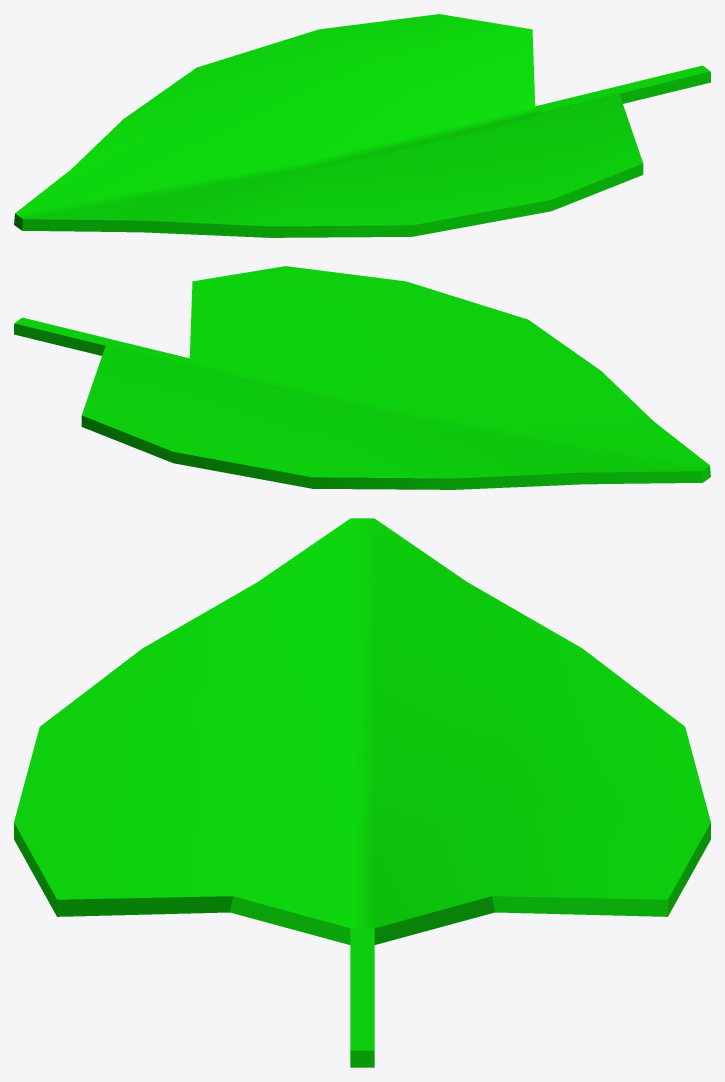
The model's file is foglia.fbx.
The picture shows the model from 3 angles, top to bottom: view 1: azimuth 30°, elevation 25°; view 2: azimuth 150°, elevation 25°; view 3: azimuth 270°, elevation 25°; orthographic projection. The views are drawn at different scales.
Visible parts, largest first — view 1: Foglia; view 2: Foglia; view 3: Foglia.
Part boxes in pixels (x1=…): Foglia: x1=14, y1=14, x2=710, y2=237; Foglia: x1=14, y1=266, x2=710, y2=489; Foglia: x1=14, y1=518, x2=710, y2=1067.
Size of the model in its own units: 152 by 10.77 by 89.09.
